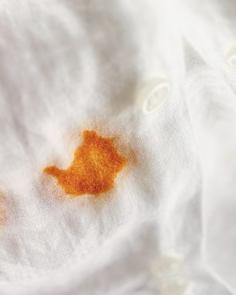stain: (40, 123, 141, 206)
